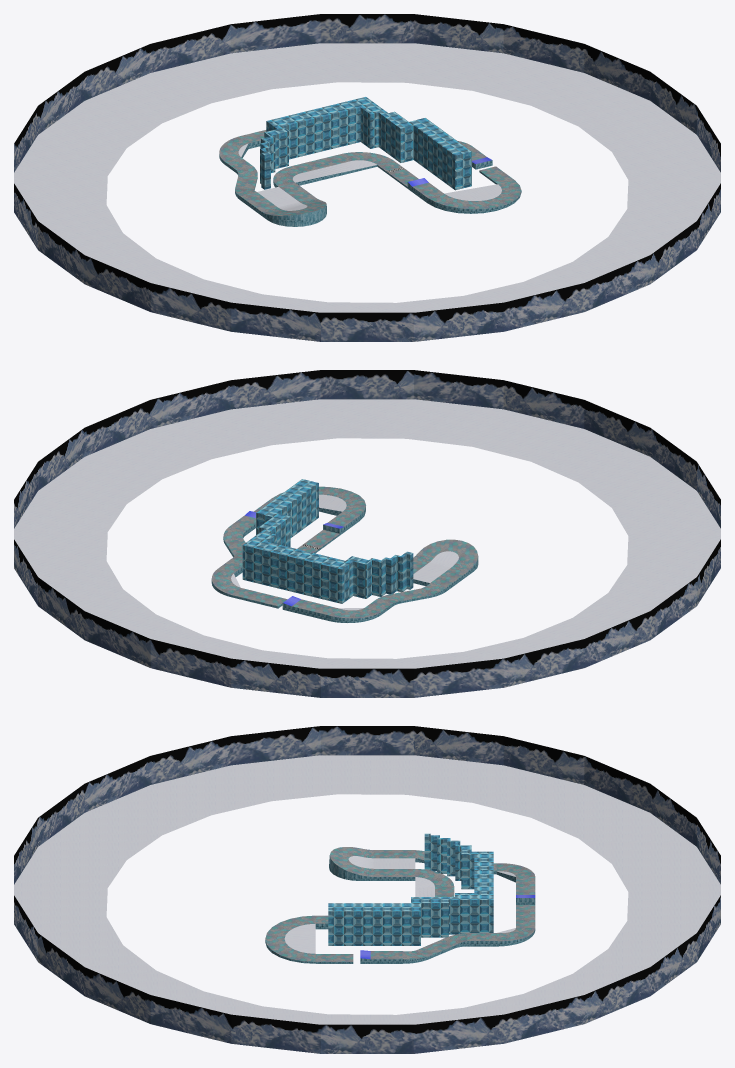
3 views of the same model, one above another, from view 1: azimuth 30°, elevation 25°; view 2: azimuth 150°, elevation 25°; view 3: azimuth 270°, elevation 25° (orthographic).
Visible parts, largest first — view 1: Toxic_Circuit_SKP__Snow, Toxic_Circuit_SKP__Mountains, Toxic_Circuit_SKP__Block, Toxic_Circuit_SKP__Road, Toxic_Circuit_SKP__Wall; view 2: Toxic_Circuit_SKP__Snow, Toxic_Circuit_SKP__Mountains, Toxic_Circuit_SKP__Block, Toxic_Circuit_SKP__Road, Toxic_Circuit_SKP__Wall; view 3: Toxic_Circuit_SKP__Snow, Toxic_Circuit_SKP__Mountains, Toxic_Circuit_SKP__Block, Toxic_Circuit_SKP__Road, Toxic_Circuit_SKP__Wall.
Boxes of the visible parts, box(x1,y1,x2,y2) form: Toxic_Circuit_SKP__Snow: box(14, 43, 720, 312); Toxic_Circuit_SKP__Mountains: box(14, 14, 720, 341); Toxic_Circuit_SKP__Block: box(260, 97, 471, 190); Toxic_Circuit_SKP__Road: box(219, 130, 521, 215); Toxic_Circuit_SKP__Wall: box(219, 140, 521, 226); Toxic_Circuit_SKP__Snow: box(14, 399, 720, 668); Toxic_Circuit_SKP__Mountains: box(14, 370, 720, 697); Toxic_Circuit_SKP__Block: box(242, 479, 413, 603); Toxic_Circuit_SKP__Road: box(211, 486, 478, 618); Toxic_Circuit_SKP__Wall: box(211, 506, 478, 622); Toxic_Circuit_SKP__Snow: box(14, 755, 720, 1024); Toxic_Circuit_SKP__Mountains: box(14, 726, 720, 1053); Toxic_Circuit_SKP__Block: box(328, 833, 493, 945); Toxic_Circuit_SKP__Road: box(265, 847, 535, 961); Toxic_Circuit_SKP__Wall: box(265, 855, 535, 963).
Size of what is drawn, in the model's own units: 127657 by 6886 by 127657.
7 materials, 7 textured.
